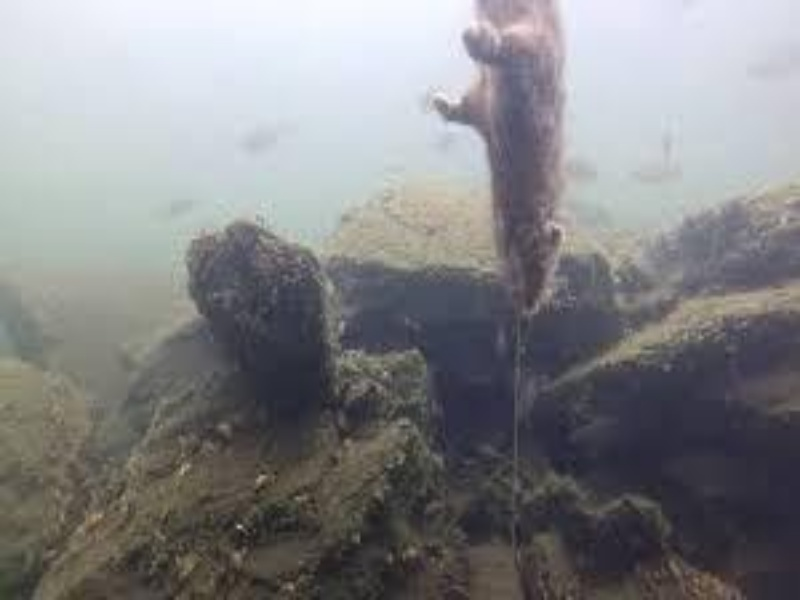minkish: (423, 4, 569, 328)
